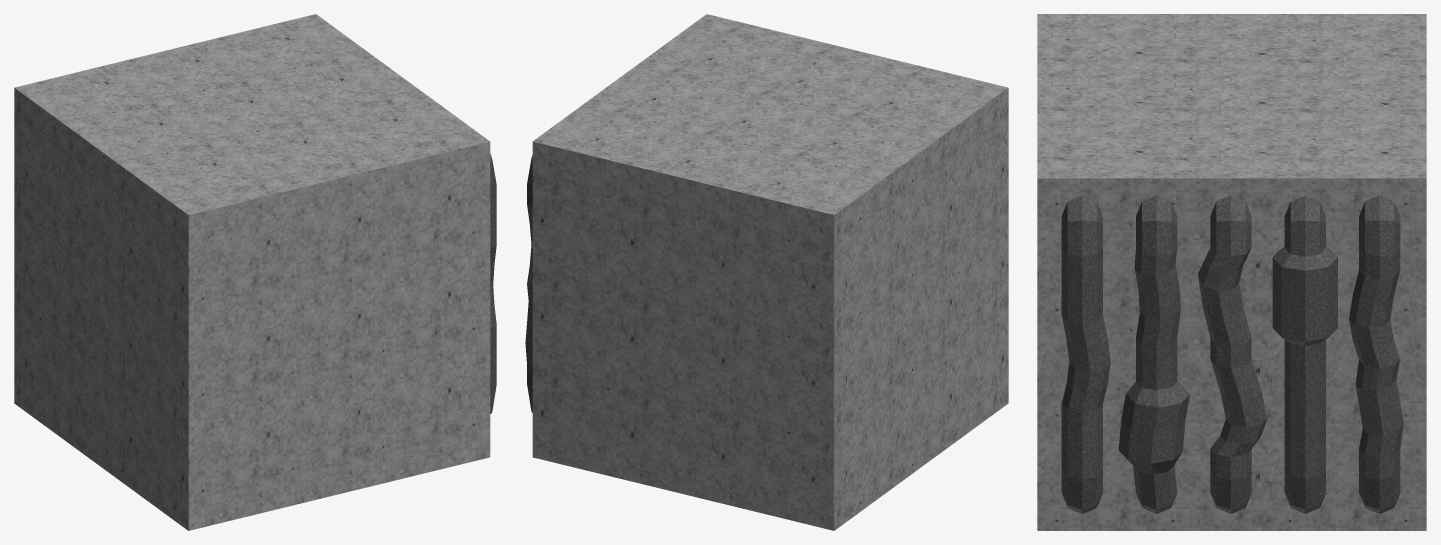
The model's file is Pipe cube2.fbx.
The picture shows the model from 3 angles, left to right: view 1: azimuth 30°, elevation 25°; view 2: azimuth 150°, elevation 25°; view 3: azimuth 270°, elevation 25°; orthographic projection. The views are drawn at different scales.
Parts seen in each view (by area): view 1: Cube.016; view 2: Cube.016; view 3: Cube.016.
Boxes of the visible parts, x1=… form: Cube.016: x1=14, y1=14, x2=496, y2=530; Cube.016: x1=525, y1=14, x2=1008, y2=530; Cube.016: x1=1037, y1=14, x2=1426, y2=530.
Bounding box in the file's own units: 223 × 200 × 200.
